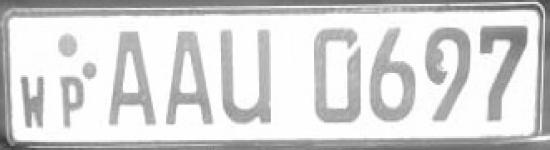0: (304, 19, 364, 136)
6: (364, 21, 422, 128)
7: (473, 18, 530, 127)
9: (422, 18, 474, 129)
A: (164, 25, 216, 132)
P: (101, 27, 164, 132), (56, 68, 94, 130)
U: (216, 25, 283, 137)
W: (17, 70, 54, 133)
